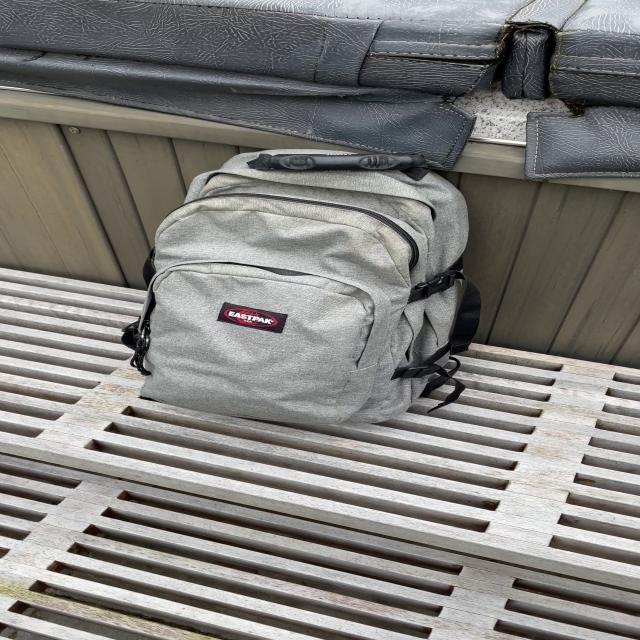backpack: (125, 144, 490, 432)
